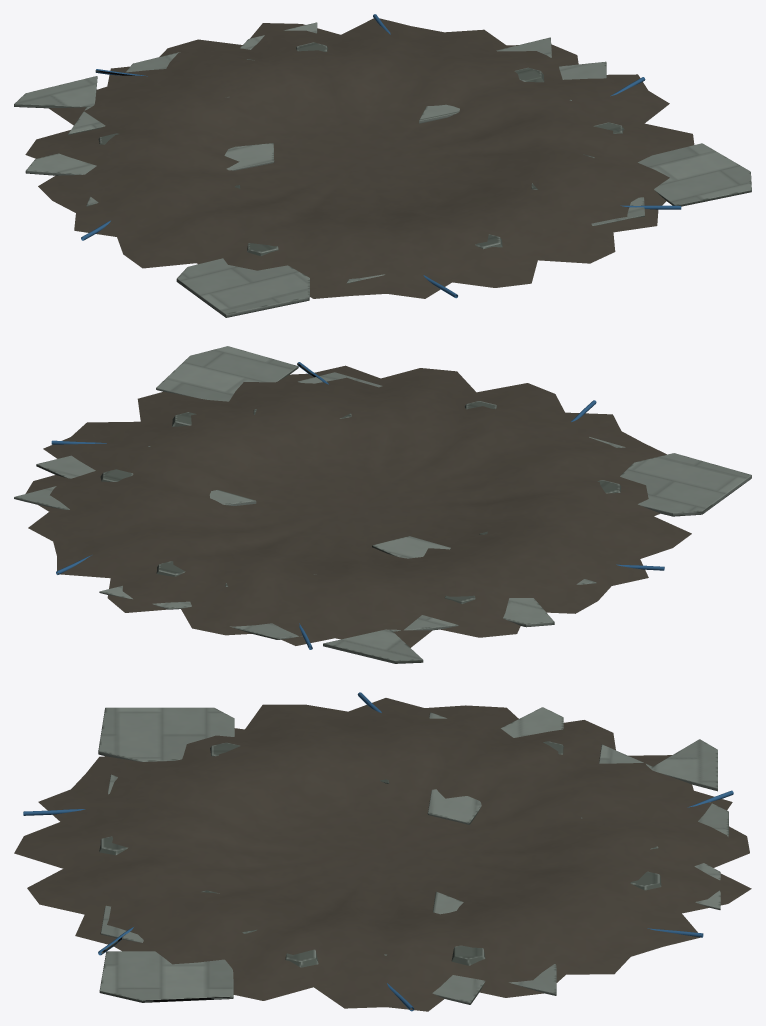
Rendered from crater.glb.
3 renders of one model, top to bottom at view 1: azimuth 30°, elevation 25°; view 2: azimuth 150°, elevation 25°; view 3: azimuth 270°, elevation 25°, orthographic. The views are drawn at different scales.
Visible parts, largest first — view 1: GT_0131_crater_GroundContact; view 2: GT_0131_crater_GroundContact; view 3: GT_0131_crater_GroundContact.
Part boxes in pixels (x1=…): GT_0131_crater_GroundContact: x1=14, y1=14, x2=751, y2=317; GT_0131_crater_GroundContact: x1=14, y1=346, x2=751, y2=663; GT_0131_crater_GroundContact: x1=14, y1=692, x2=751, y2=1011.
Size of the model in its own units: 8.01 by 0.19 by 7.9.
1 material, 1 textured.
